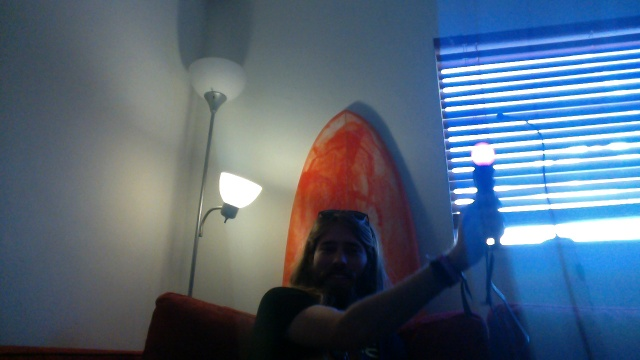wand: (472, 144, 496, 167)
